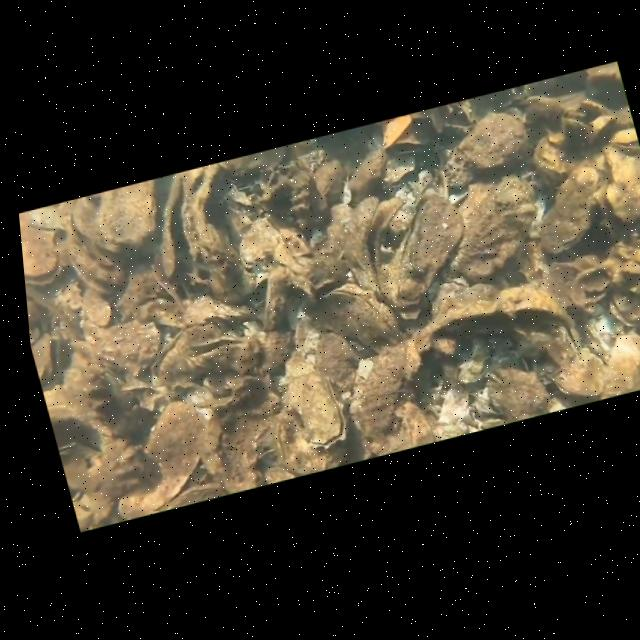Oyster-Closed: (451, 174, 535, 281), (72, 180, 156, 251), (321, 282, 400, 349), (540, 165, 600, 253), (272, 406, 345, 477), (458, 112, 528, 169), (93, 320, 160, 376), (67, 231, 127, 293), (306, 325, 363, 387), (486, 366, 550, 421), (158, 324, 214, 385), (604, 145, 640, 221), (348, 146, 392, 204), (601, 333, 640, 398), (553, 348, 604, 396), (259, 266, 289, 332), (570, 263, 613, 304), (579, 100, 617, 144), (312, 159, 346, 206)
Oyster-Indeterminate: (47, 404, 144, 499), (390, 193, 462, 306)
Oyster-Open: (424, 284, 574, 333), (160, 168, 199, 279), (285, 371, 343, 444), (19, 212, 57, 277), (31, 333, 71, 390), (610, 127, 640, 156)
